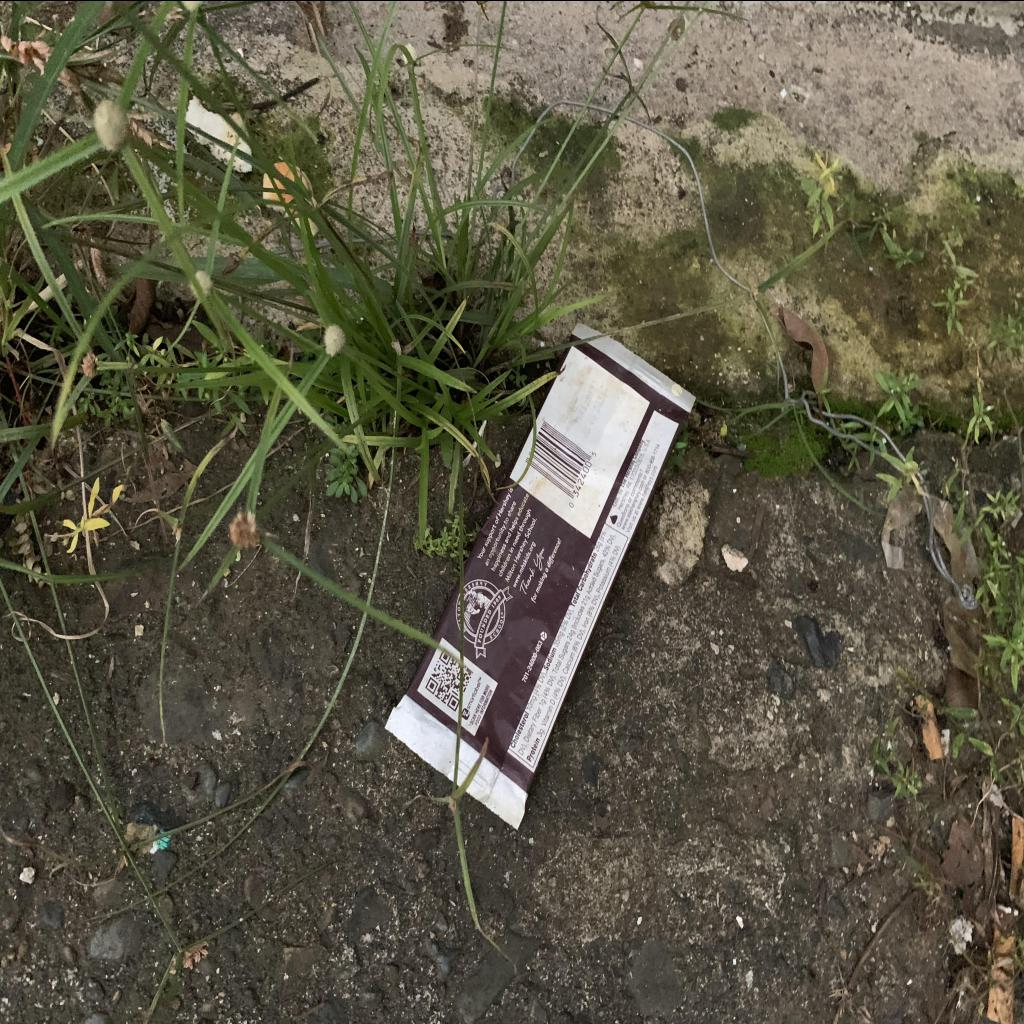Cigarette: (987, 904, 1019, 1024), (914, 696, 944, 758), (1008, 812, 1024, 907)
Other plastic: (385, 322, 696, 830), (151, 828, 171, 850)
Plastic film: (880, 483, 984, 681)
